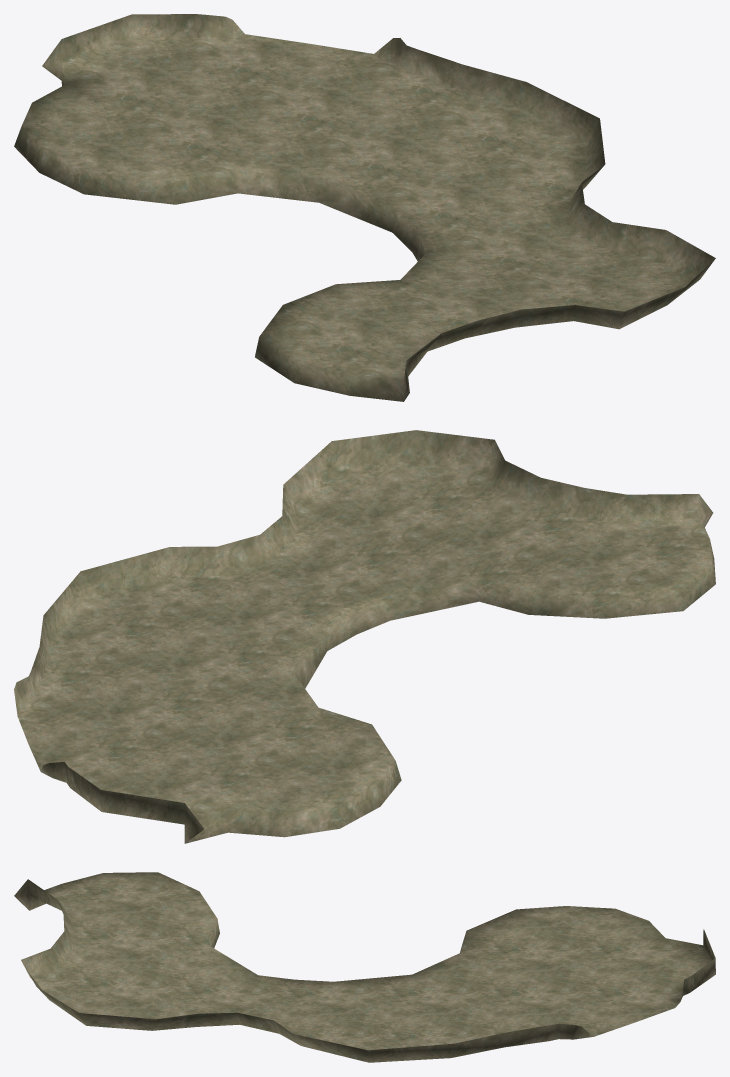
Rendered from OVERHILL_A_01_OBJECT213.fbx.
3 renders of one model, top to bottom at view 1: azimuth 30°, elevation 25°; view 2: azimuth 150°, elevation 25°; view 3: azimuth 270°, elevation 25°, orthographic. The views are drawn at different scales.
Visible parts, largest first — view 1: OVERHILL_A_01_OBJECT213; view 2: OVERHILL_A_01_OBJECT213; view 3: OVERHILL_A_01_OBJECT213.
Part boxes in pixels (x1,y1,x2,y2): OVERHILL_A_01_OBJECT213: (14,14,715,401); OVERHILL_A_01_OBJECT213: (14,430,715,843); OVERHILL_A_01_OBJECT213: (14,872,715,1062).
Size of the model in its own units: 83899 by 10176 by 136747.
1 material, 1 textured.
